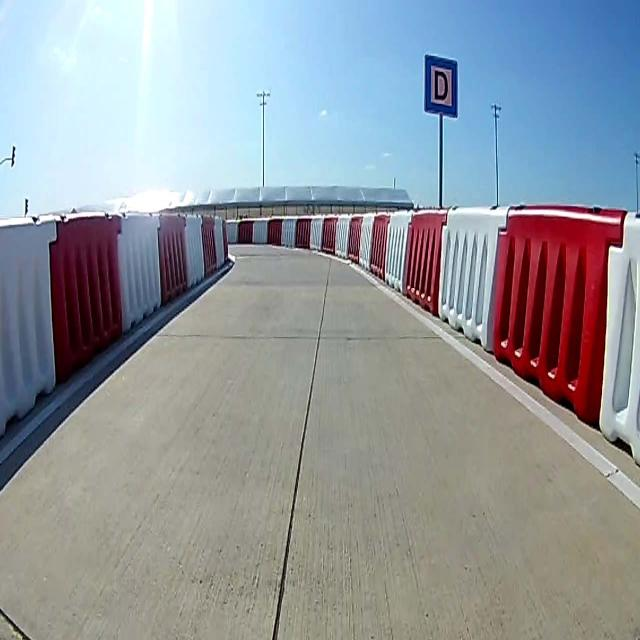durak: (424, 54, 458, 118)
